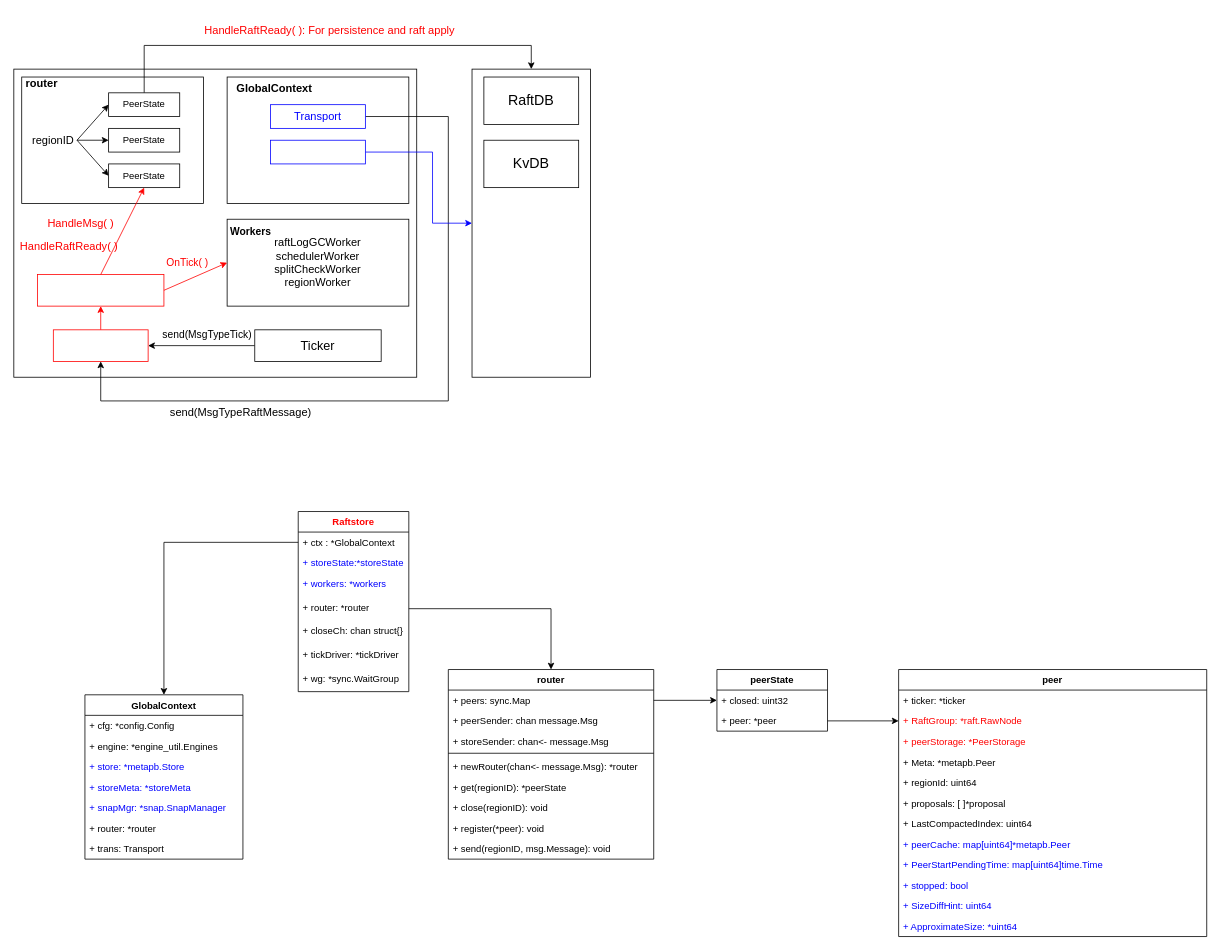
Some shapes in this 1221 by 952 pixel diagram are drawn without their labels. The centre of each missing label's shape, as x and y in pixels:
"Engines" goes at pixel 317 151.
"NewMsgHandler( )" goes at pixel 100 290.
"RaftWorker" goes at pixel 100 345.
